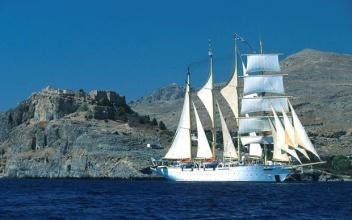fanchuan: (152, 33, 322, 186)
